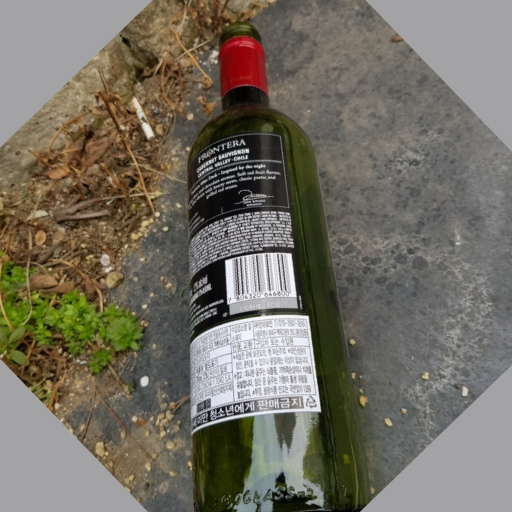Glass_2: (183, 25, 372, 512)
